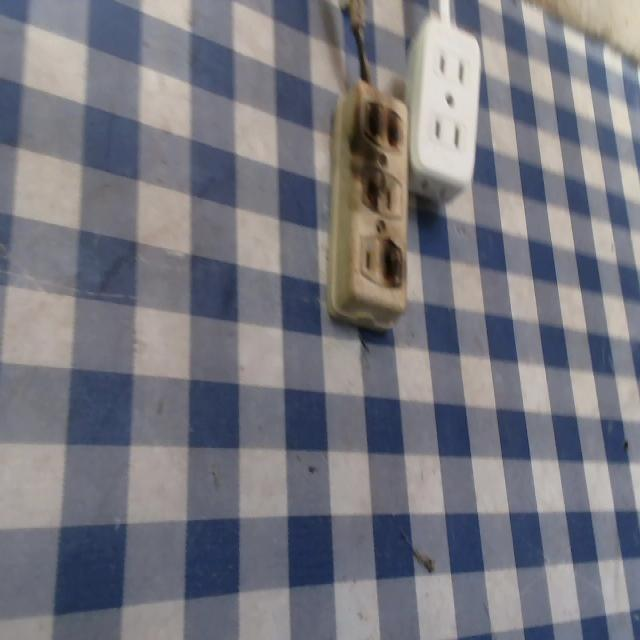-: (346, 93, 408, 152), (376, 233, 414, 310), (356, 159, 387, 216)
